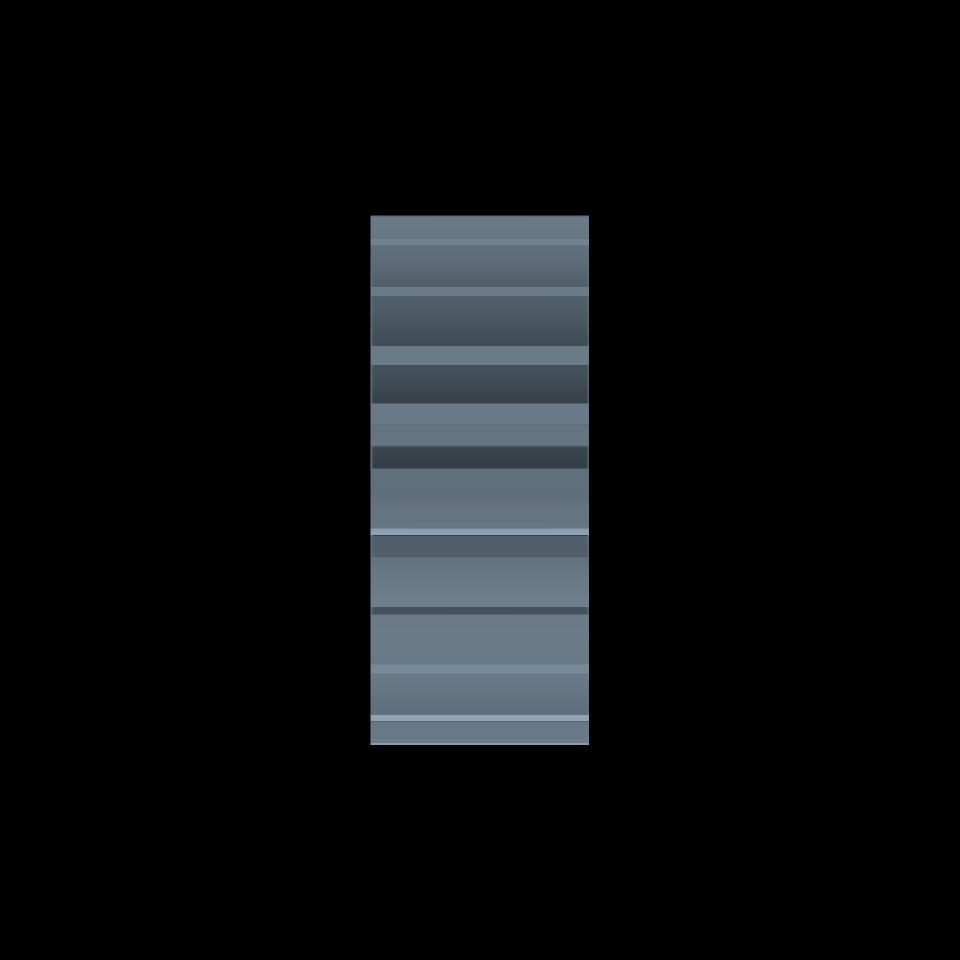Straight: (371, 215, 589, 744)
